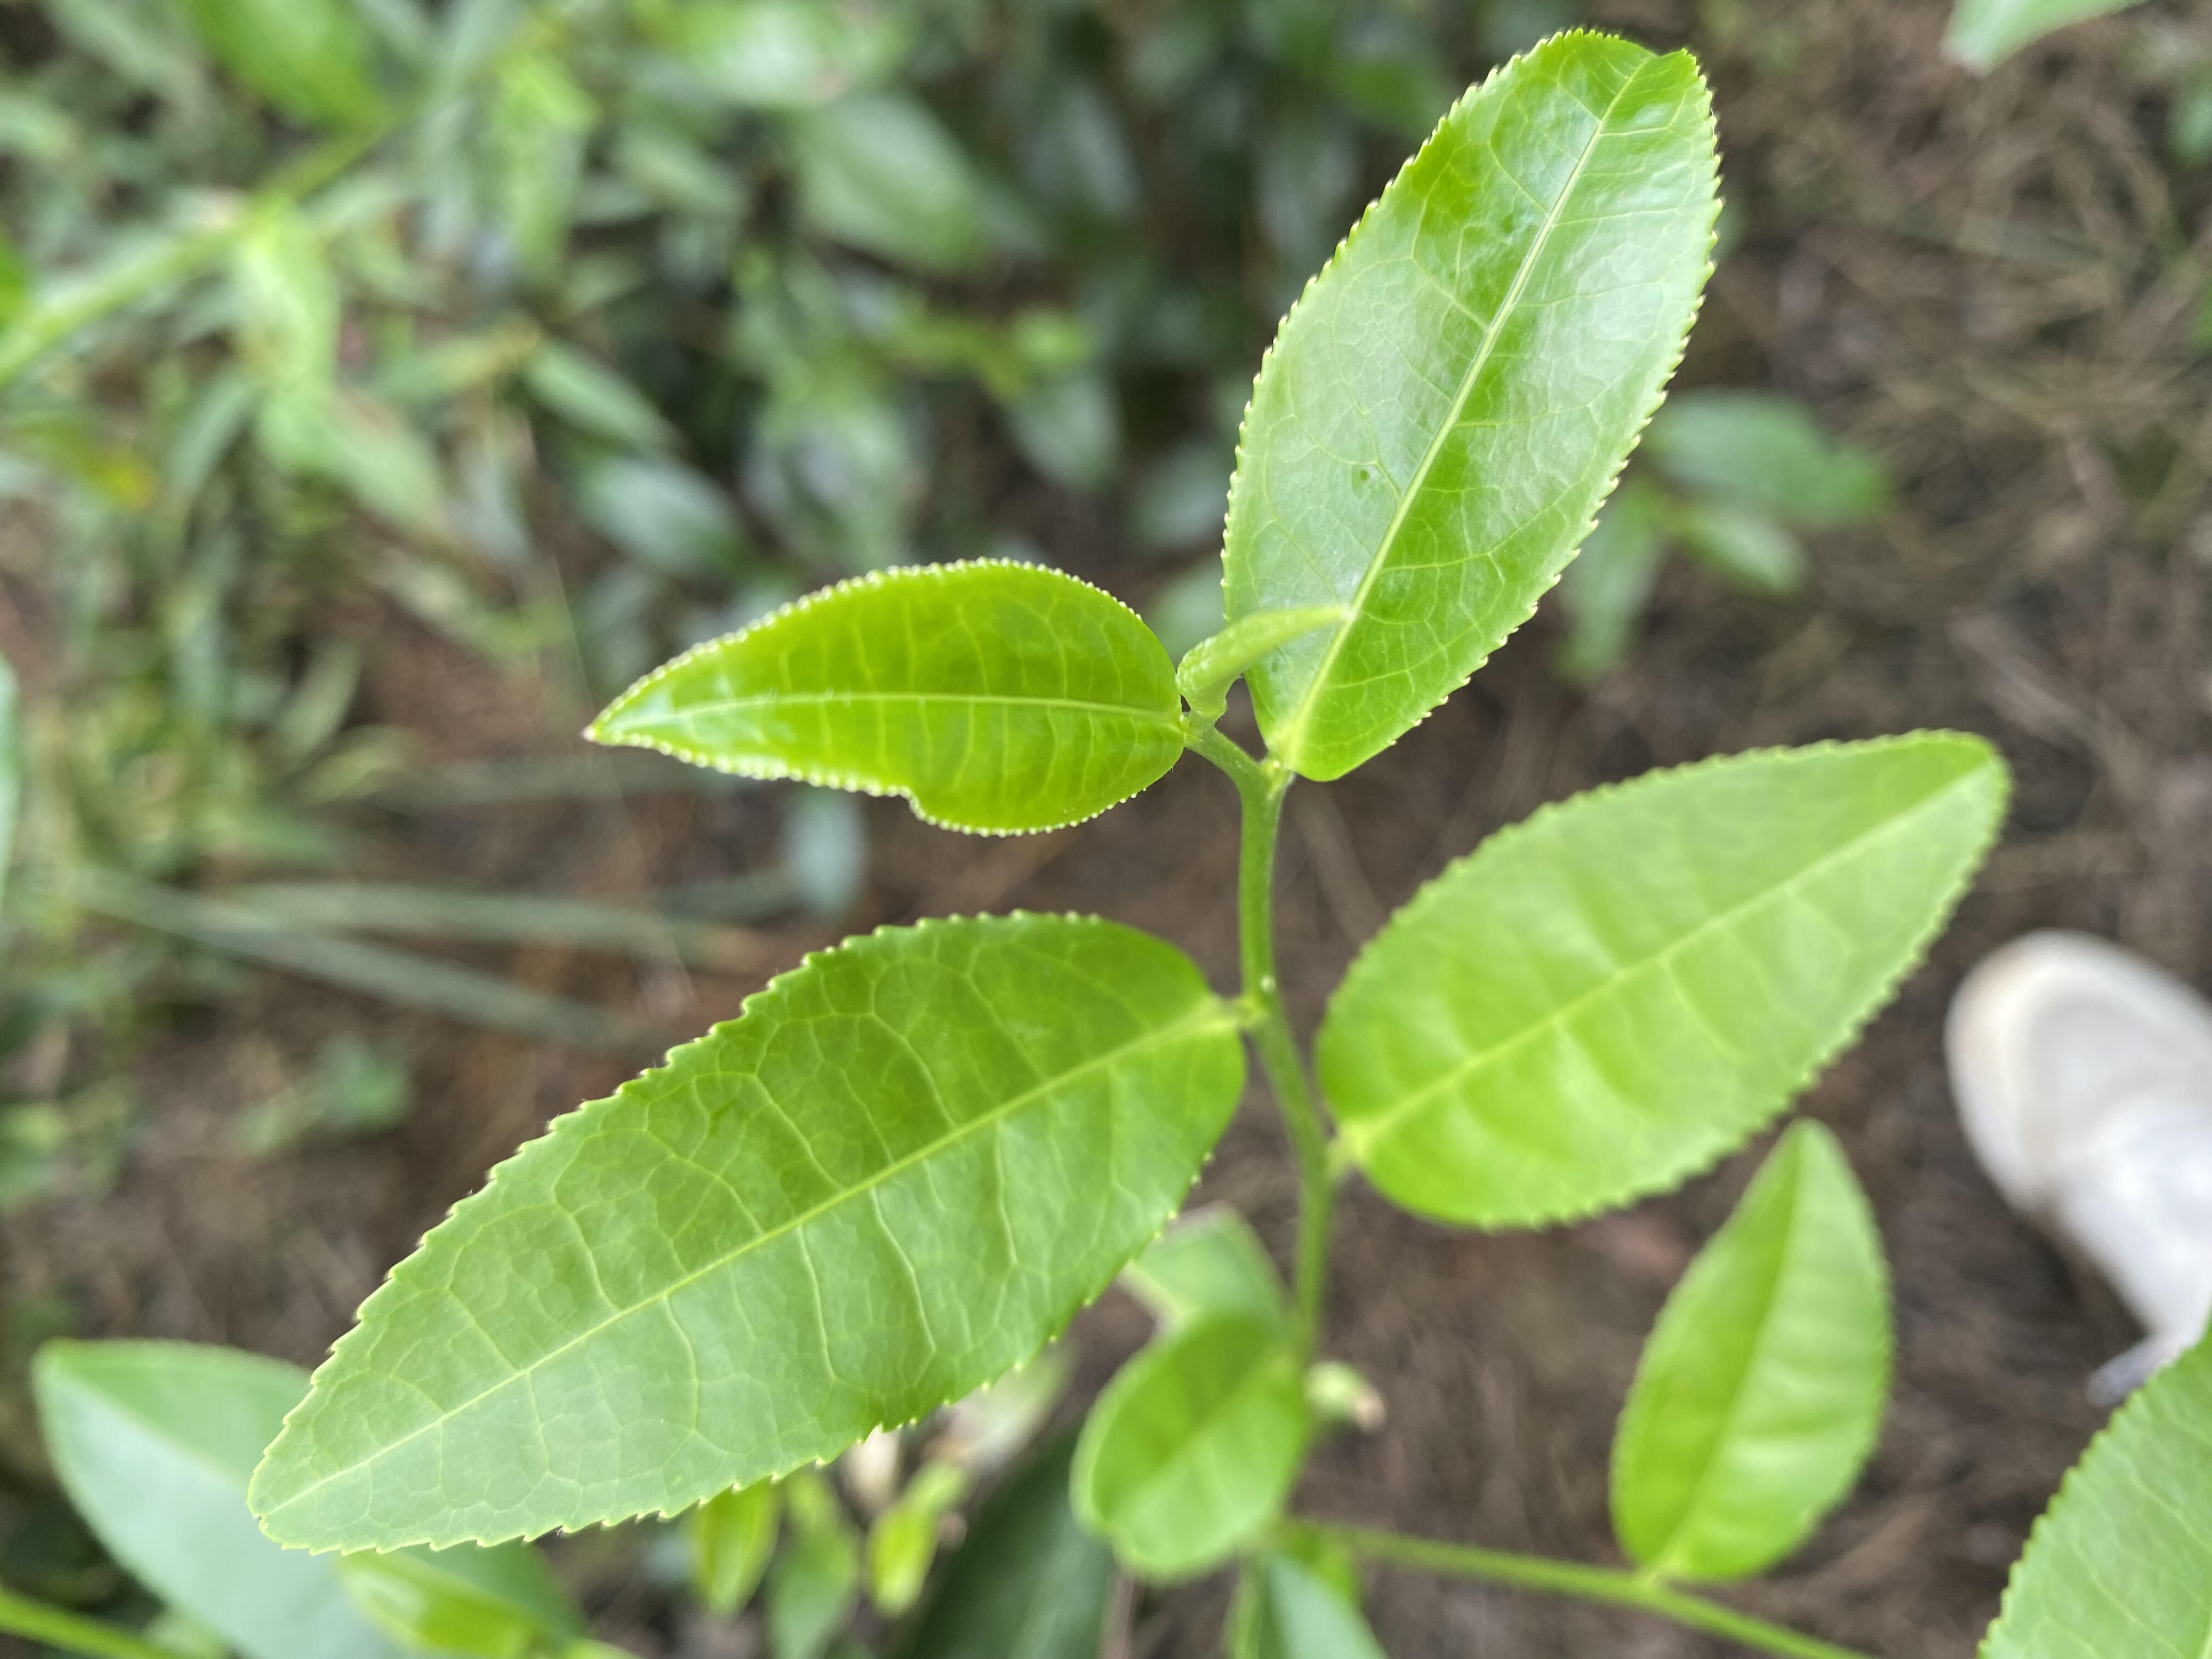healthy: (247, 908, 1251, 1558), (1219, 28, 1728, 784), (1313, 730, 2017, 1237), (583, 558, 1186, 836)
